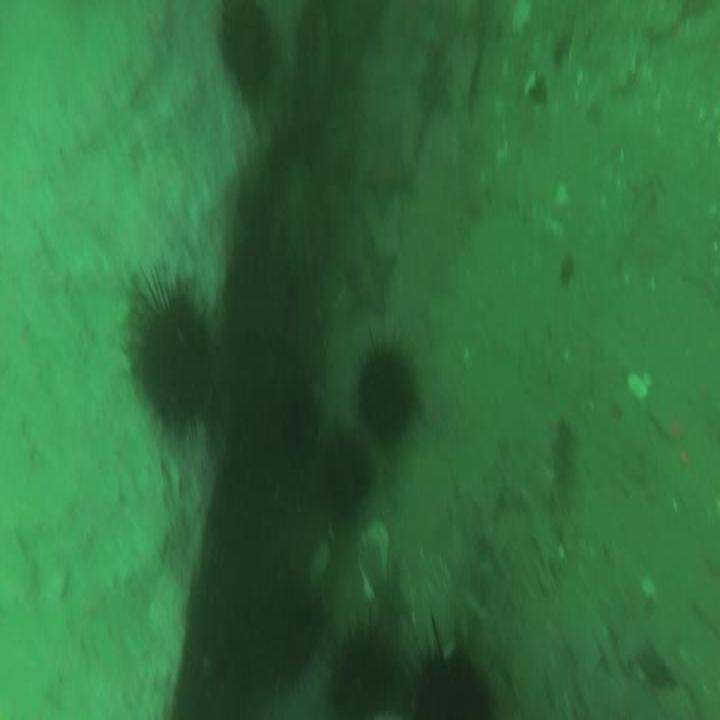echinus: (138, 297, 211, 427), (258, 382, 316, 482), (416, 643, 488, 720), (218, 2, 274, 94), (267, 587, 318, 686), (358, 345, 410, 441), (333, 636, 388, 720), (320, 430, 367, 519)
starfish: (340, 231, 396, 320), (366, 115, 409, 204), (413, 50, 453, 117)
